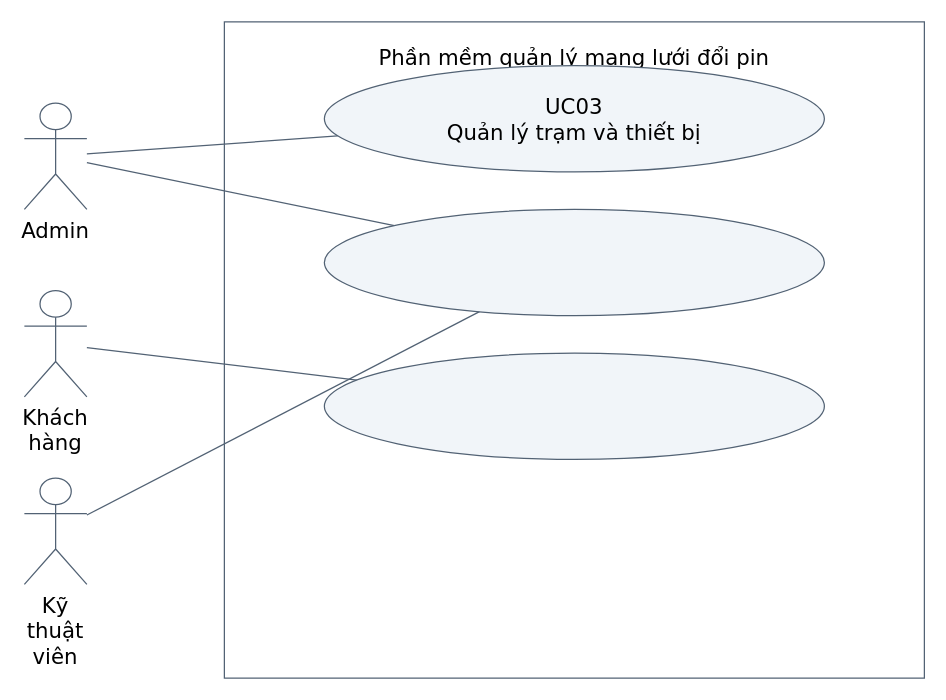
The diagram is 946 pixels wide and 700 high, and some of its shapes have lost their labels. The shapes that lost their labels are listed below. From the top down, each one's centre as x and y in pixels, then its label:
At [573,262]: "UC04 Quản lý ngăn tủ".
At [573,405]: "UC05 Tra cứu trạm có pin".
